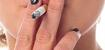smoke: (29, 3, 47, 18)
